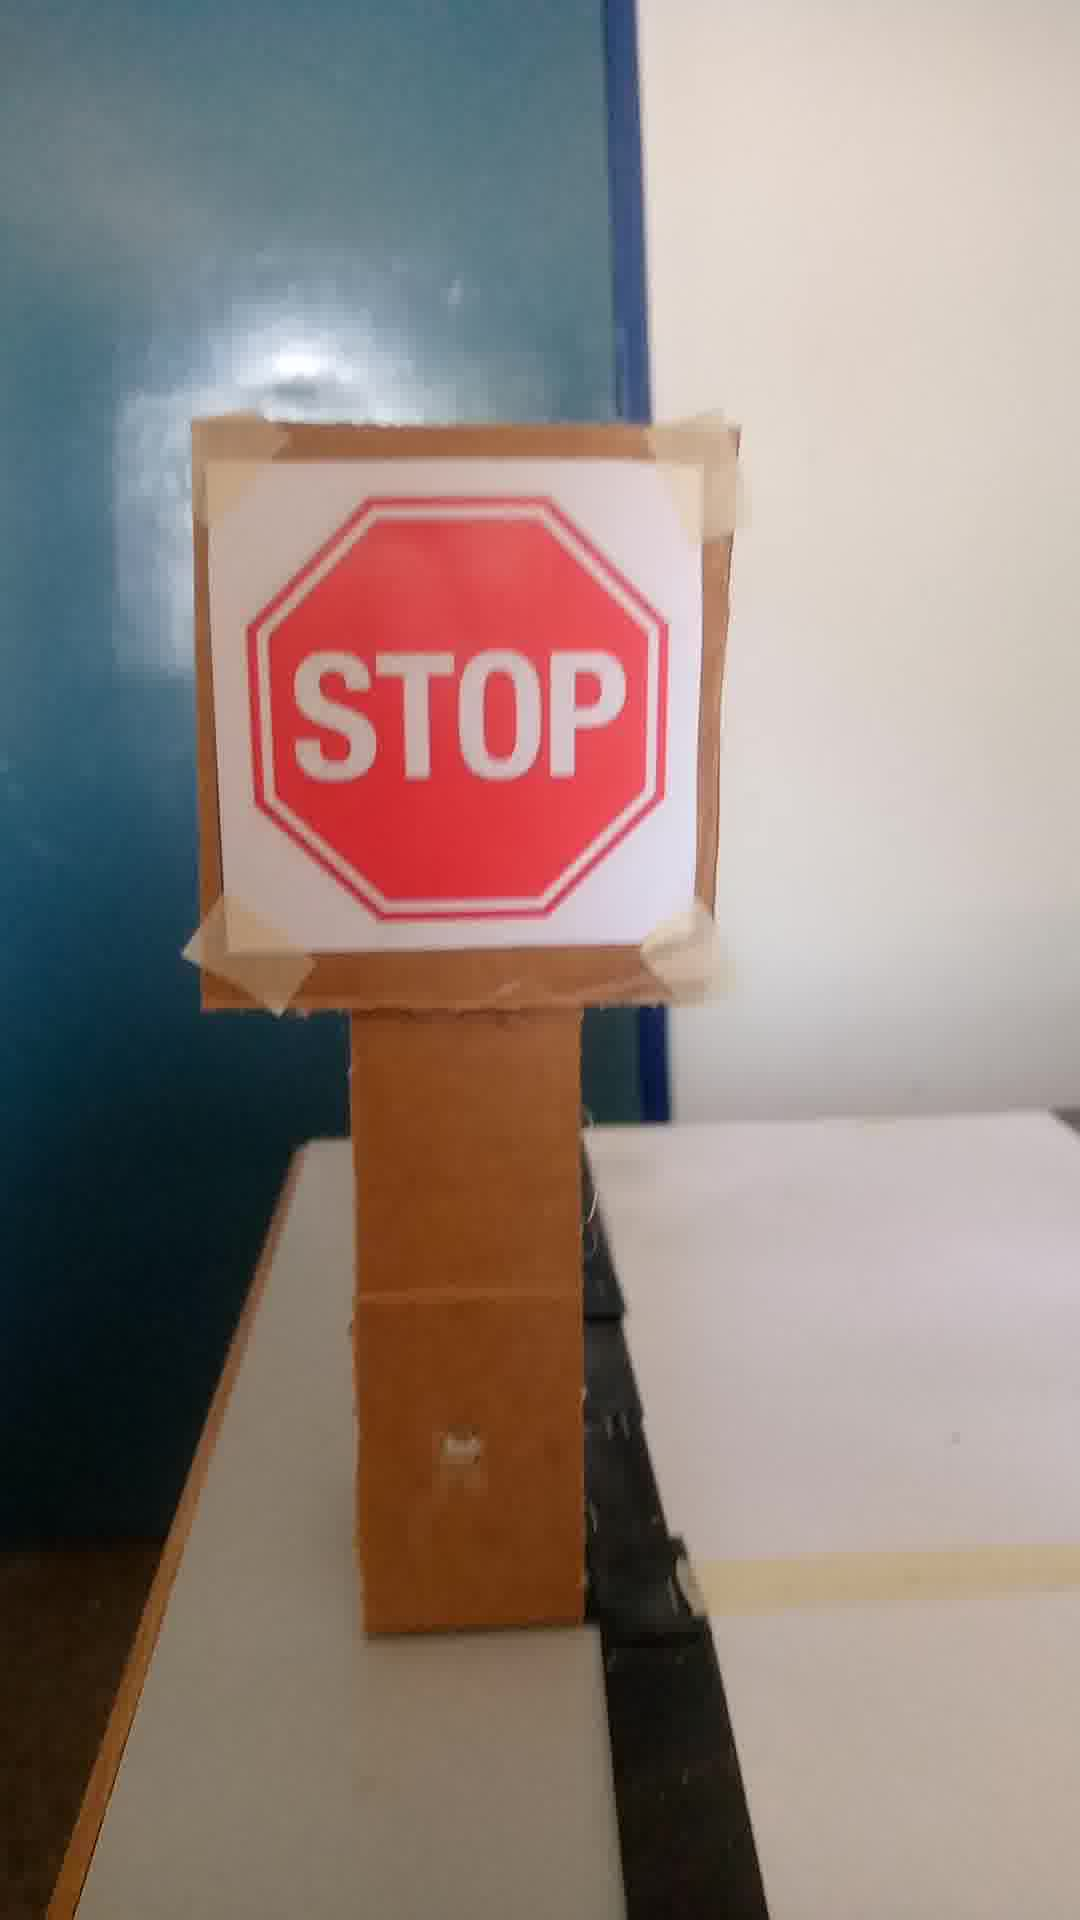panel101: (204, 460, 704, 971)
